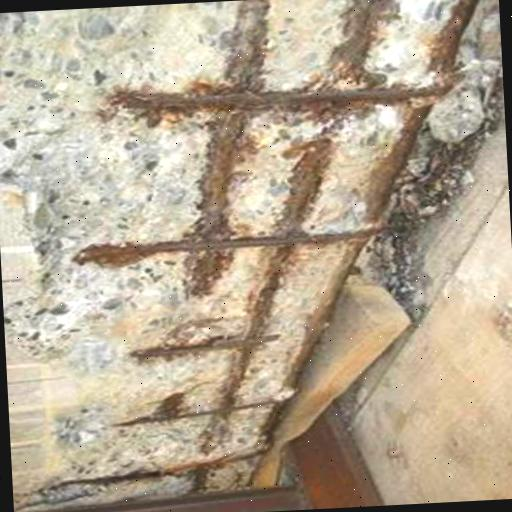spalling: (0, 0, 488, 507)
